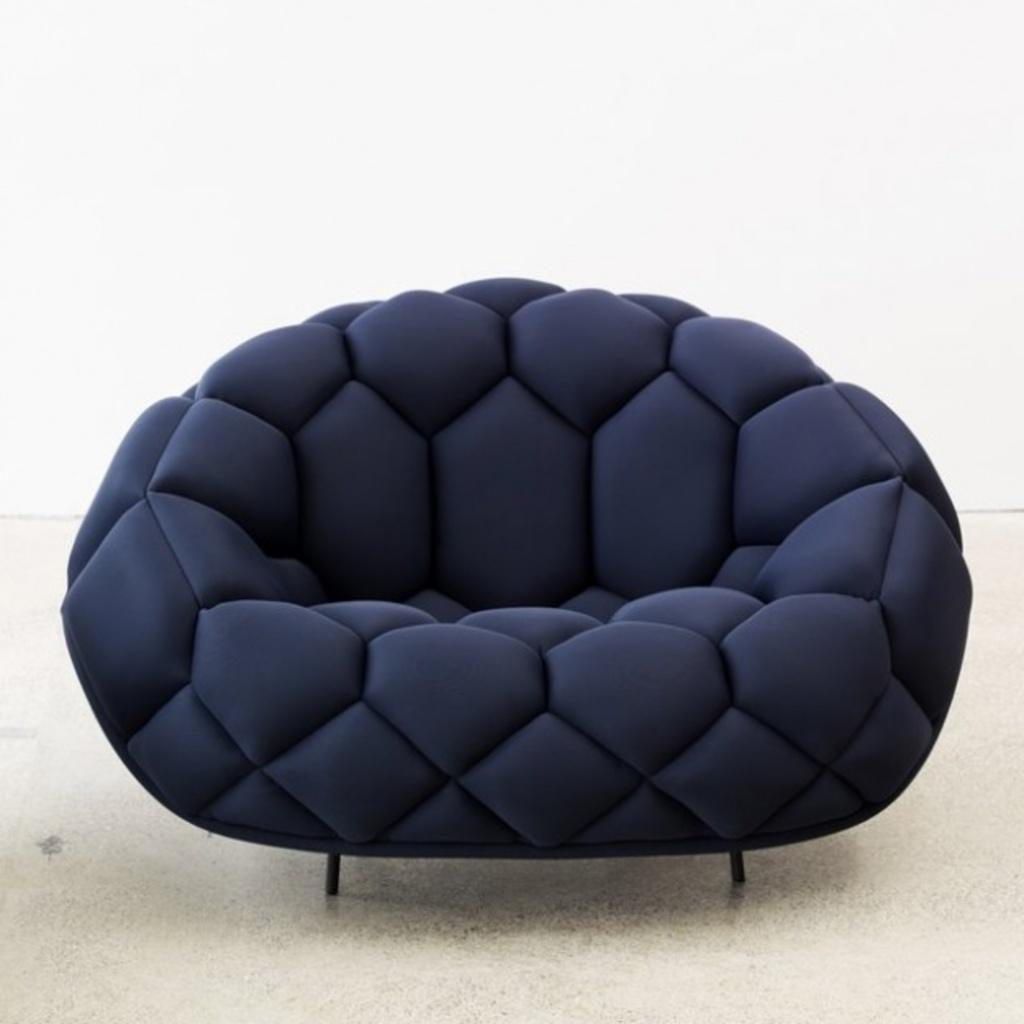Chair: (39, 242, 1021, 940)
